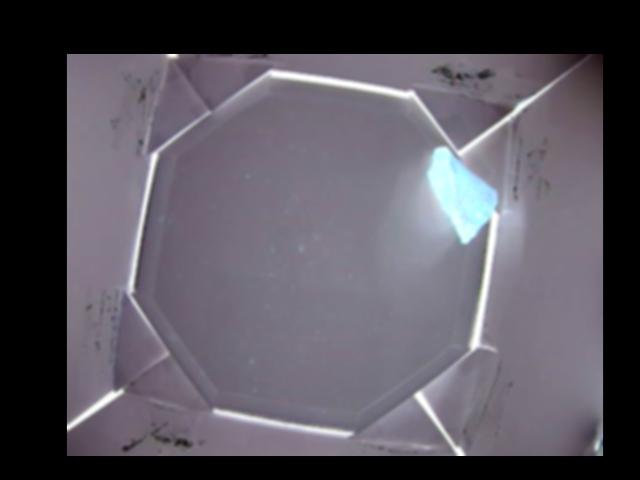Brisk: (428, 146, 497, 240)
